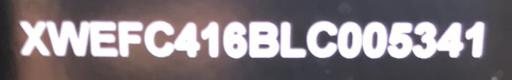letter: (45, 19, 89, 57), (304, 19, 338, 60), (16, 19, 52, 57), (247, 20, 281, 59), (88, 19, 118, 60), (279, 19, 309, 59), (142, 20, 174, 57), (172, 20, 202, 59), (116, 19, 144, 60), (436, 21, 466, 59), (386, 19, 414, 59), (220, 20, 248, 59), (362, 19, 388, 60), (336, 19, 362, 59), (411, 19, 437, 59), (464, 20, 486, 60), (199, 20, 221, 58)
